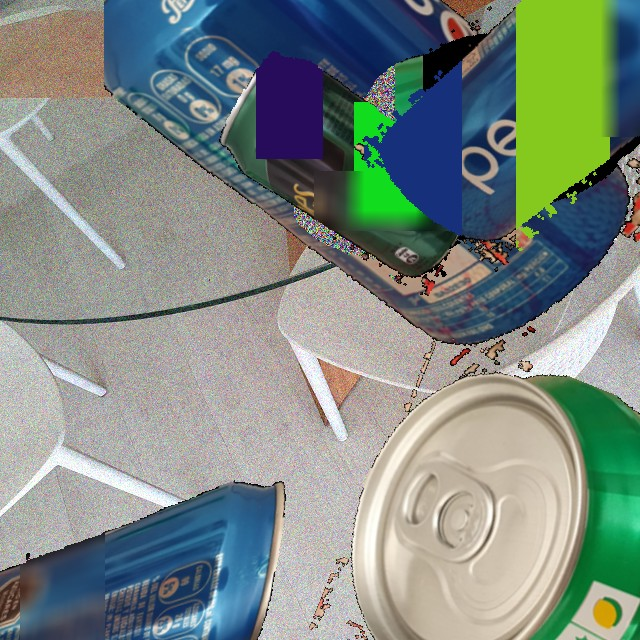pepsi: (104, 0, 640, 415), (321, 0, 640, 302), (0, 474, 302, 640)
schweppes: (219, 34, 488, 303)
sprite: (294, 0, 640, 383), (305, 336, 640, 640)
